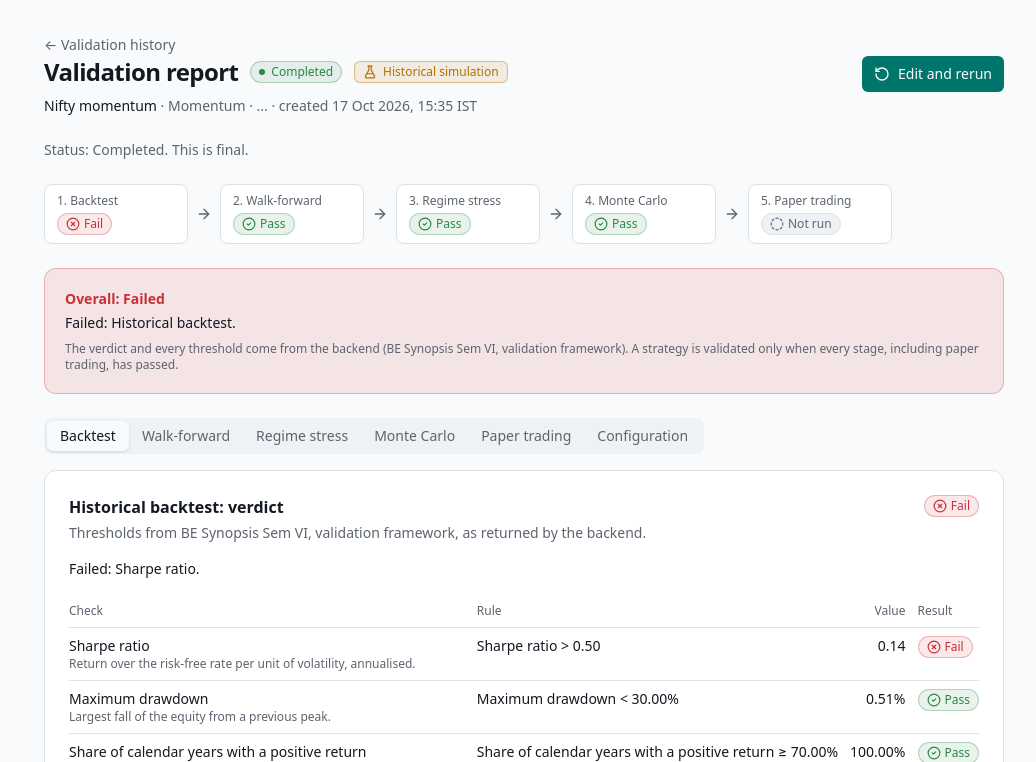
Test case: ValidationReportPage › paper trading waits for stages 1 to 4 to pass
Press the mouse on the tab "Paper trading" at (526, 436), box [468,421,584,451]
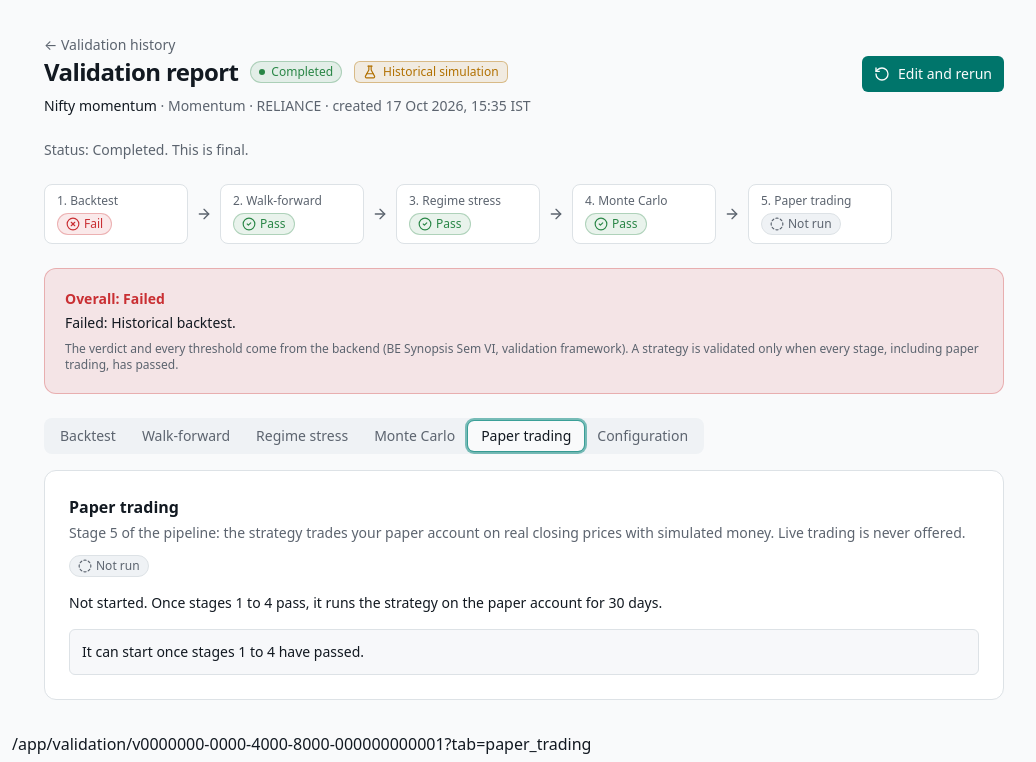
Now the panel "Paper trading" shows "Not started. Once stages 1 to 4 pass, it runs the strategy on the paper account for 30 days.", box [69,593,662,612]
Now the panel "Paper trading" shows "It can start once stages 1 to 4 have passed.", box [82,642,364,661]
